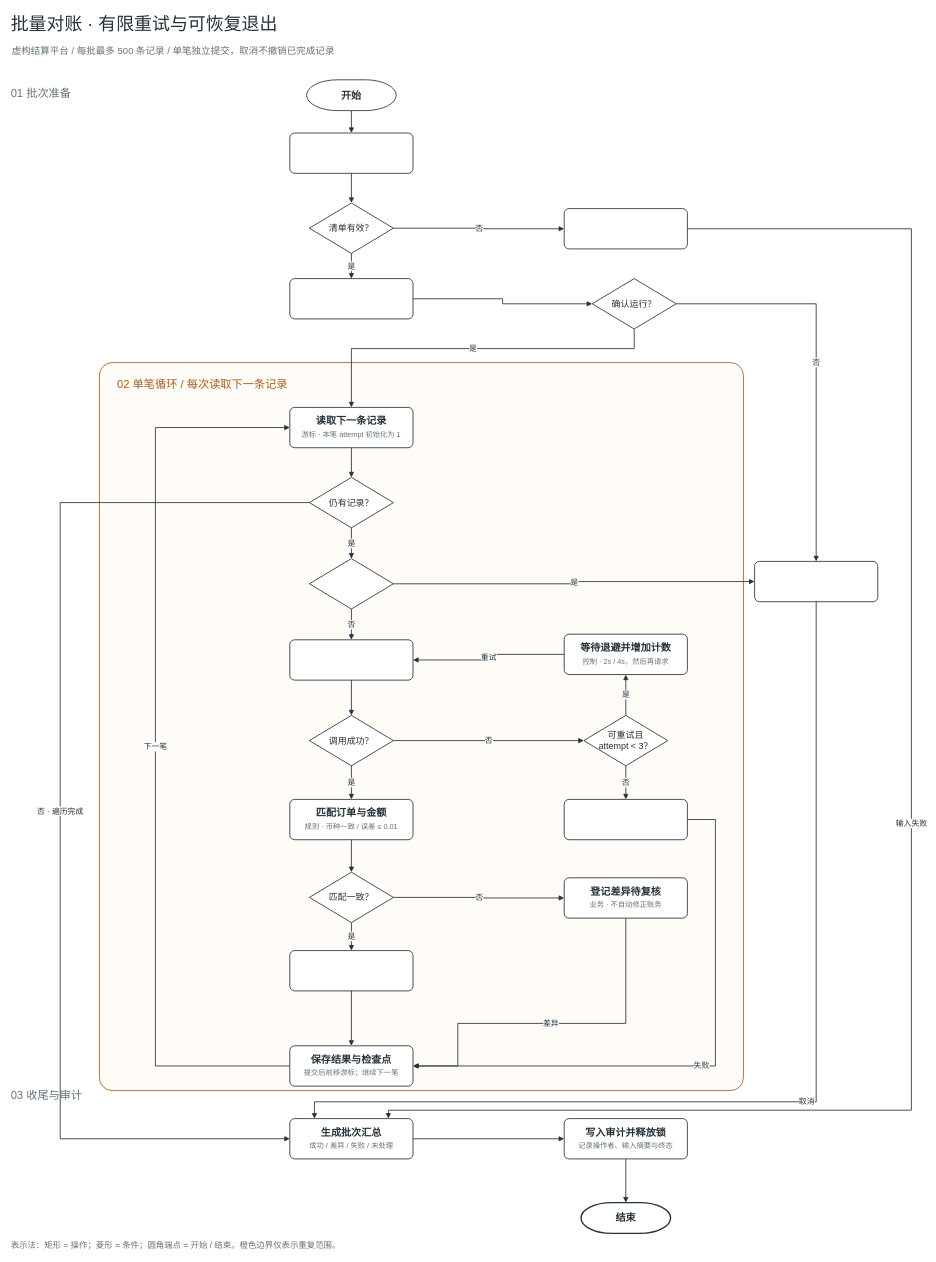
The diagram is 936 pixels wide and 1262 high, and some of its shapes have lost their labels. Each missing label, with the centre of its shape:
"提交单笔成功结果 事务 · 使用唯一对账键去重" goes at pixel 351 970.
"收到取消？" goes at pixel 351 583.
"标记批次为已取消 保留已完成结果与恢复游标" goes at pixel 816 581.
"登记单笔失败 异常 · 保留请求号与错误码" goes at pixel 626 819.
"登记校验失败 异常 · 不写入任何明细" goes at pixel 626 228.
"等待操作员确认 人工 · 选择运行或取消" goes at pixel 351 298.
"获取外部结算结果 API · 超时 / 限流允许重试" goes at pixel 351 659.
"读取批次清单 IO · 冻结账期与输入摘要" goes at pixel 351 152.
